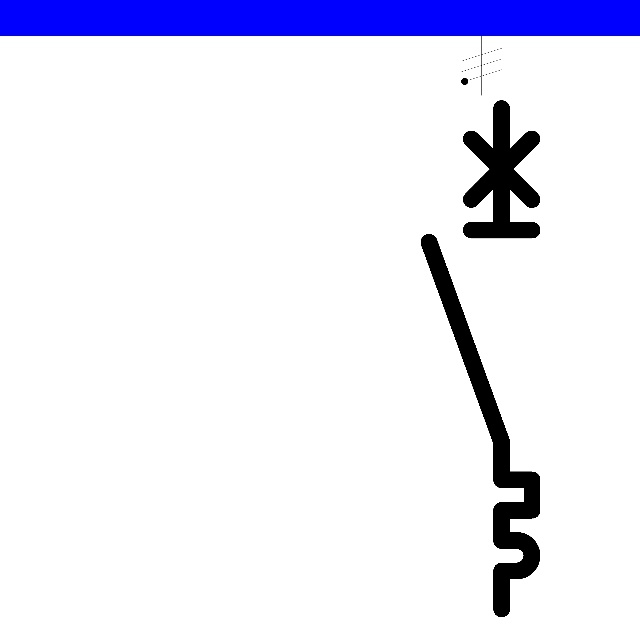interruptor_termomagnetico: (416, 95, 545, 621)
